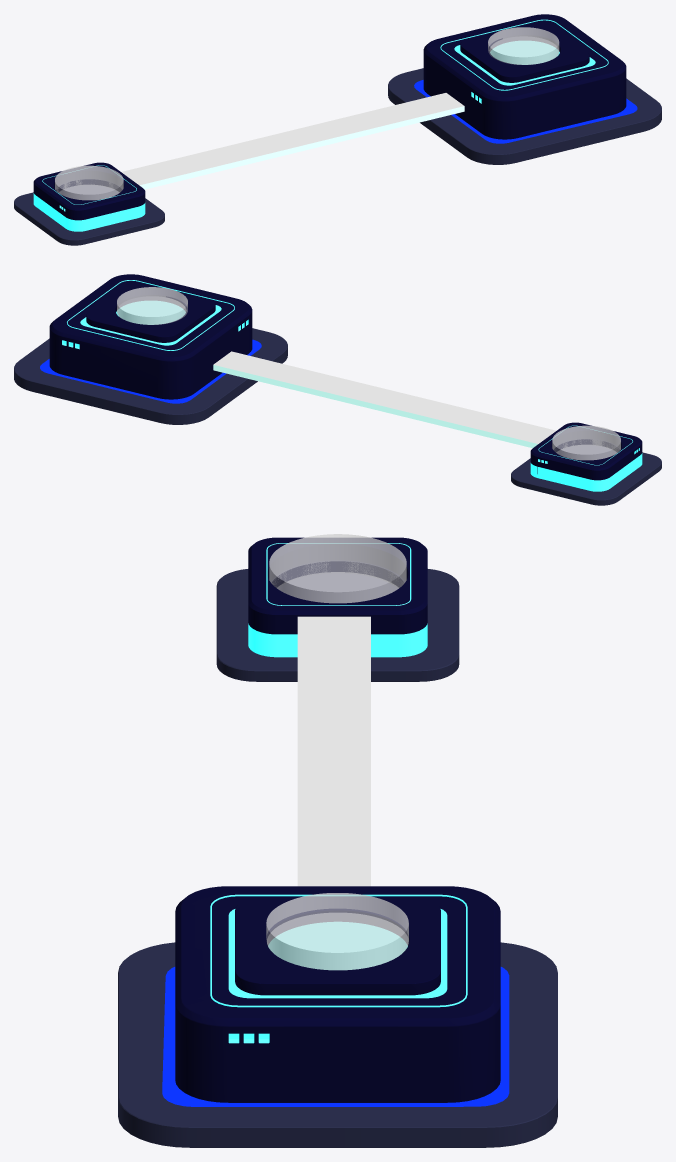
3 renders of one model, top to bottom at view 1: azimuth 30°, elevation 25°; view 2: azimuth 150°, elevation 25°; view 3: azimuth 270°, elevation 25°, orthographic. The views are drawn at different scales.
Visible parts, largest first — view 1: Lit_up_face, Cube.001, Cube, Cube.010, Cube.002, Cube.008, Cylinder.005, Cylinder.003, Cube.012, Cube.007, Cube.009, Cube.011 (+1 smaller); view 2: Lit_up_face, Cube.001, Cube, Cube.010, Cube.002, Cube.008, Cylinder.005, Cylinder.003, Cube.012, Cube.007, Cube.009, Cube.011 (+1 smaller); view 3: Lit_up_face, Cube.001, Cube, Cube.010, Cube.002, Cube.008, Cylinder.005, Cylinder.003, Cube.007, Cube.011, Cube.009, Plane.
Boxes of the visible parts, box(x1,y1,x2,y2) form: Lit_up_face: box(423, 14, 626, 139); Cube.001: box(388, 68, 661, 164); Cube: box(121, 93, 463, 185); Cube.010: box(33, 162, 145, 220); Cube.002: box(460, 22, 589, 82); Cube.008: box(14, 192, 164, 245); Cylinder.005: box(488, 27, 559, 64); Cylinder.003: box(55, 165, 123, 200); Cube.012: box(139, 106, 464, 189); Cube.007: box(454, 41, 595, 85); Cube.009: box(33, 193, 145, 231); Cube.011: box(414, 80, 637, 143); Lit_up_face: box(49, 274, 252, 399); Cube.001: box(14, 328, 287, 424); Cube: box(213, 351, 556, 443); Cube.010: box(530, 422, 642, 480); Cube.002: box(86, 282, 215, 342); Cube.008: box(511, 452, 661, 505); Cylinder.005: box(117, 287, 187, 324); Cylinder.003: box(552, 425, 620, 460); Cube.012: box(213, 365, 537, 448); Cube.007: box(80, 301, 221, 345); Cube.009: box(530, 453, 642, 491); Cube.011: box(40, 339, 261, 403); Lit_up_face: box(175, 886, 500, 1102); Cube.001: box(118, 942, 557, 1147); Cube: box(297, 616, 370, 886); Cube.010: box(248, 537, 427, 634); Cube.002: box(235, 897, 440, 995); Cube.008: box(216, 569, 459, 681); Cylinder.005: box(266, 893, 408, 970); Cylinder.003: box(269, 534, 406, 603); Cube.007: box(228, 909, 447, 998); Cube.011: box(162, 967, 509, 1106); Cube.009: box(248, 623, 427, 657); Plane: box(210, 894, 467, 1007).
Size of the model in its own units: 19.11 by 2.06 by 6.24.
